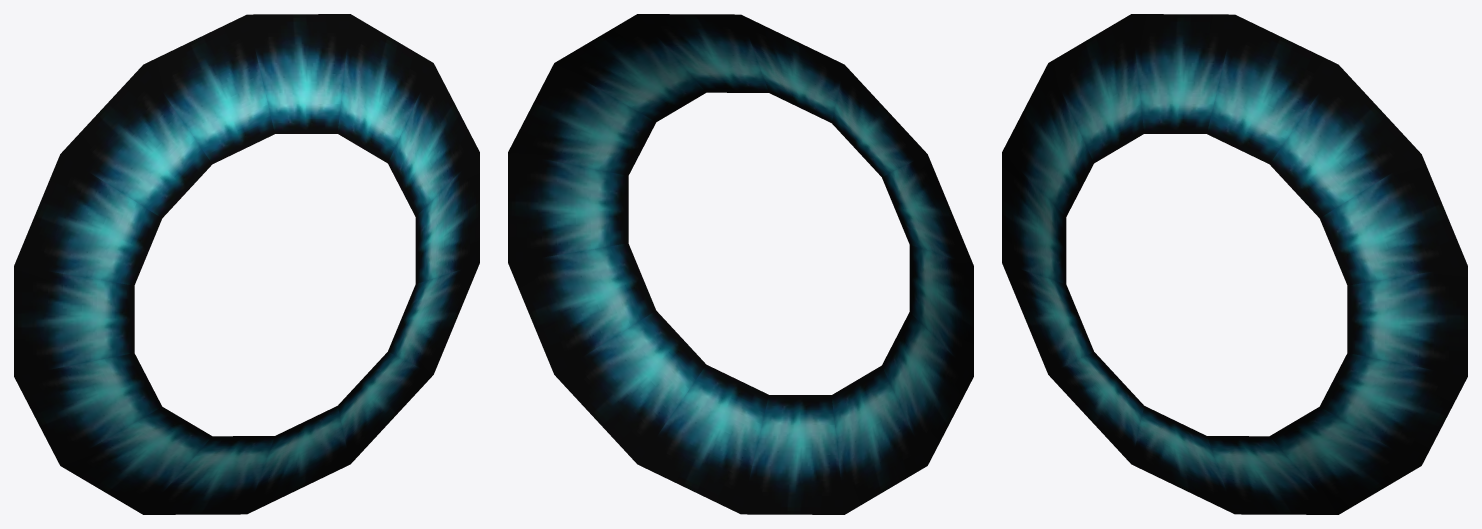
File: m_waves.glb
The picture shows the model from 3 angles, left to right: view 1: azimuth 30°, elevation 25°; view 2: azimuth 150°, elevation 25°; view 3: azimuth 330°, elevation 25°; orthographic projection.
Visible parts, largest first — view 1: model_m_waves; view 2: model_m_waves; view 3: model_m_waves.
Part boxes in pixels (x1,y1,x2,y2): model_m_waves: (14,14,479,514); model_m_waves: (508,14,973,514); model_m_waves: (1002,14,1467,514).
Size of the model in its own units: 3.49 by 3.58 by 0.3645.
1 material, 1 textured.
